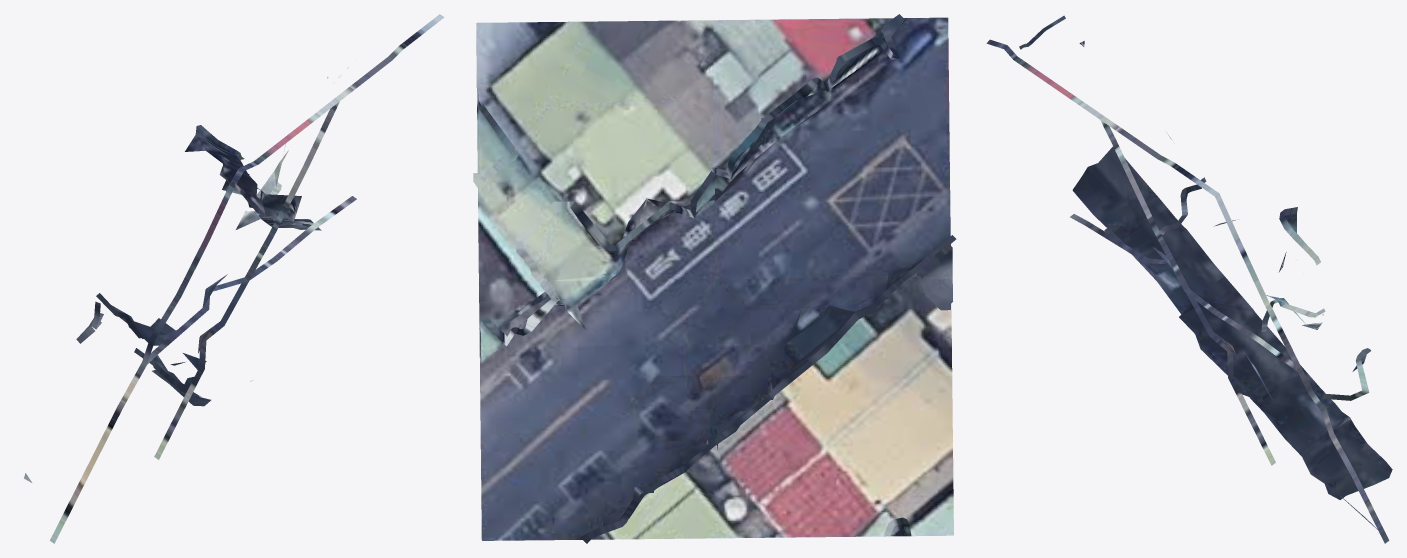
3 renders of one model, left to right at view 1: azimuth 30°, elevation 25°; view 2: azimuth 150°, elevation 25°; view 3: azimuth 270°, elevation 25°, orthographic. The views are drawn at different scales.
Size of the model in its own units: 38.04 by 37.24 by 32.58.
1 material, 1 textured.
